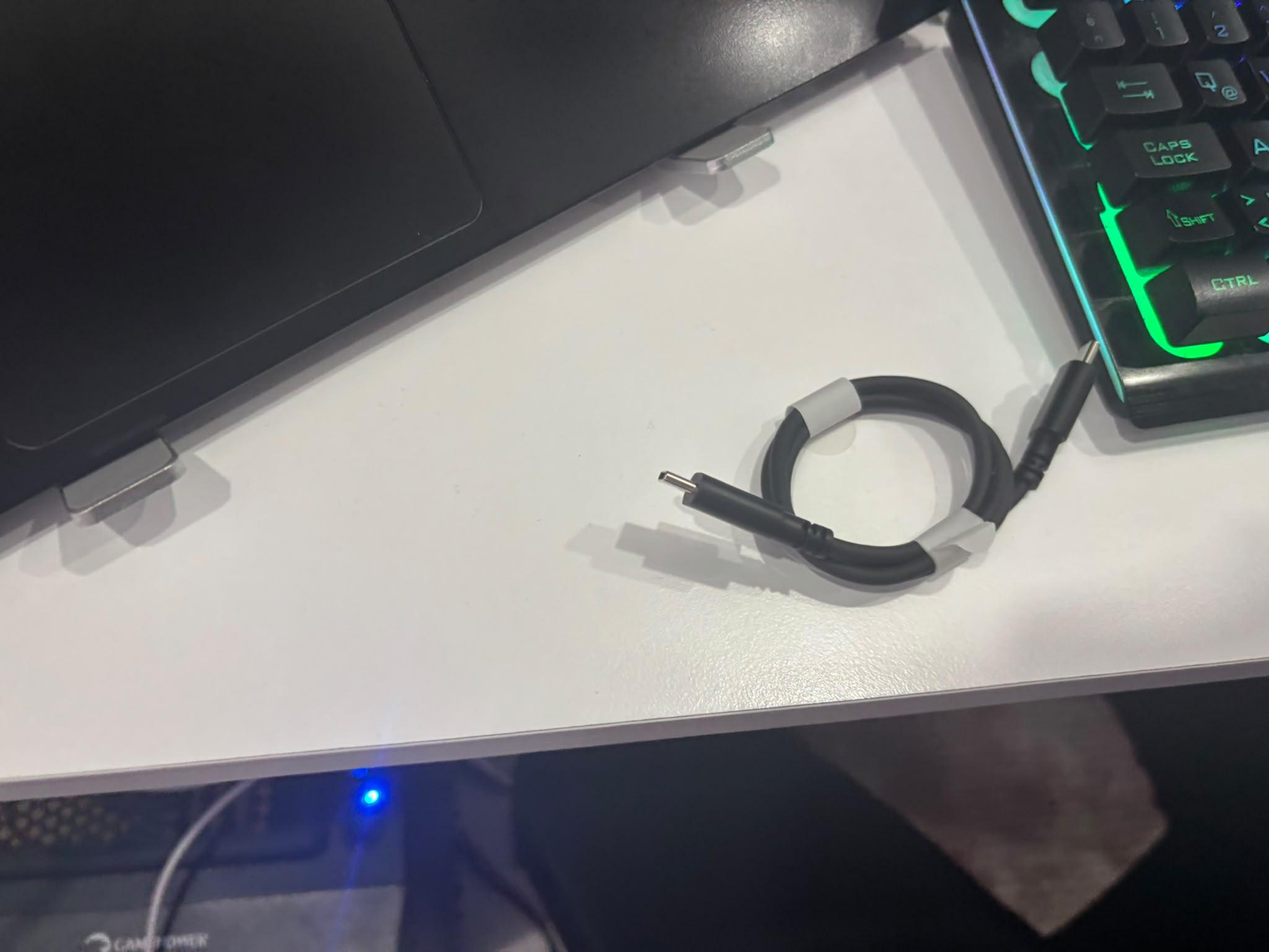cable: (657, 339, 1101, 591), (139, 769, 268, 951)
keyboard: (960, 0, 1268, 432)
